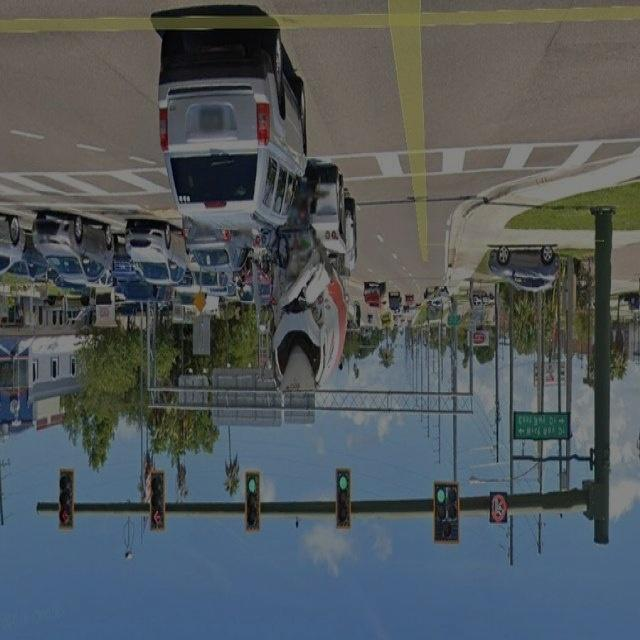Green: (429, 480, 462, 542), (242, 466, 264, 532), (334, 467, 352, 530)
Red: (52, 464, 82, 534), (146, 473, 171, 537)
